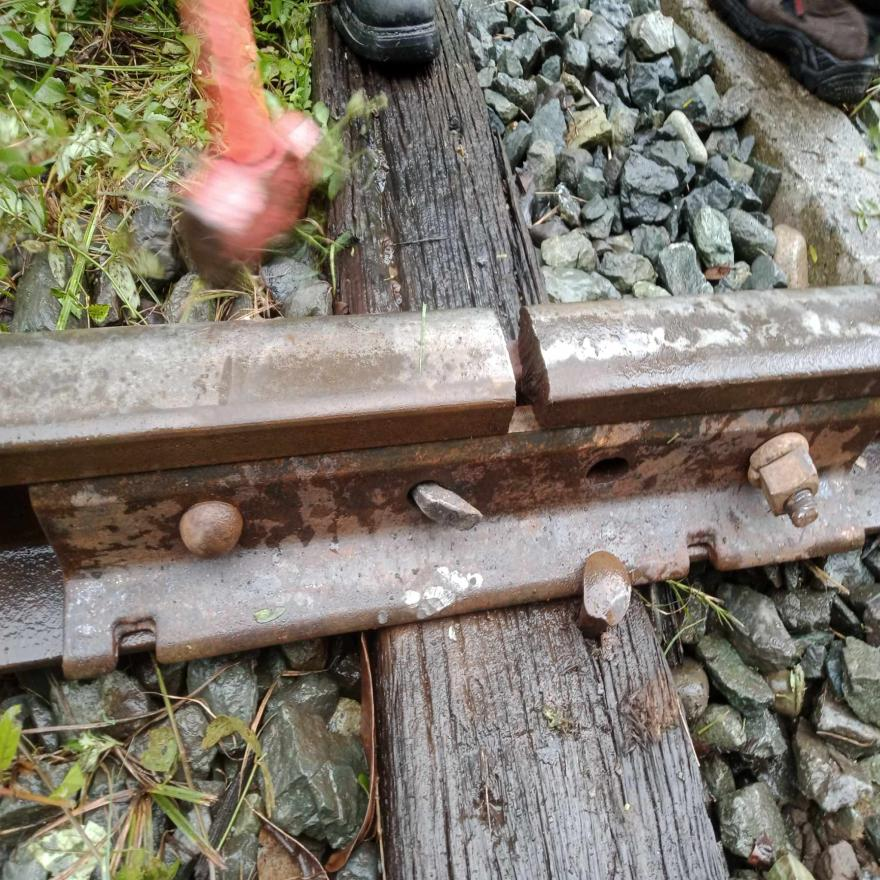railway-gap: (439, 272, 598, 459)
